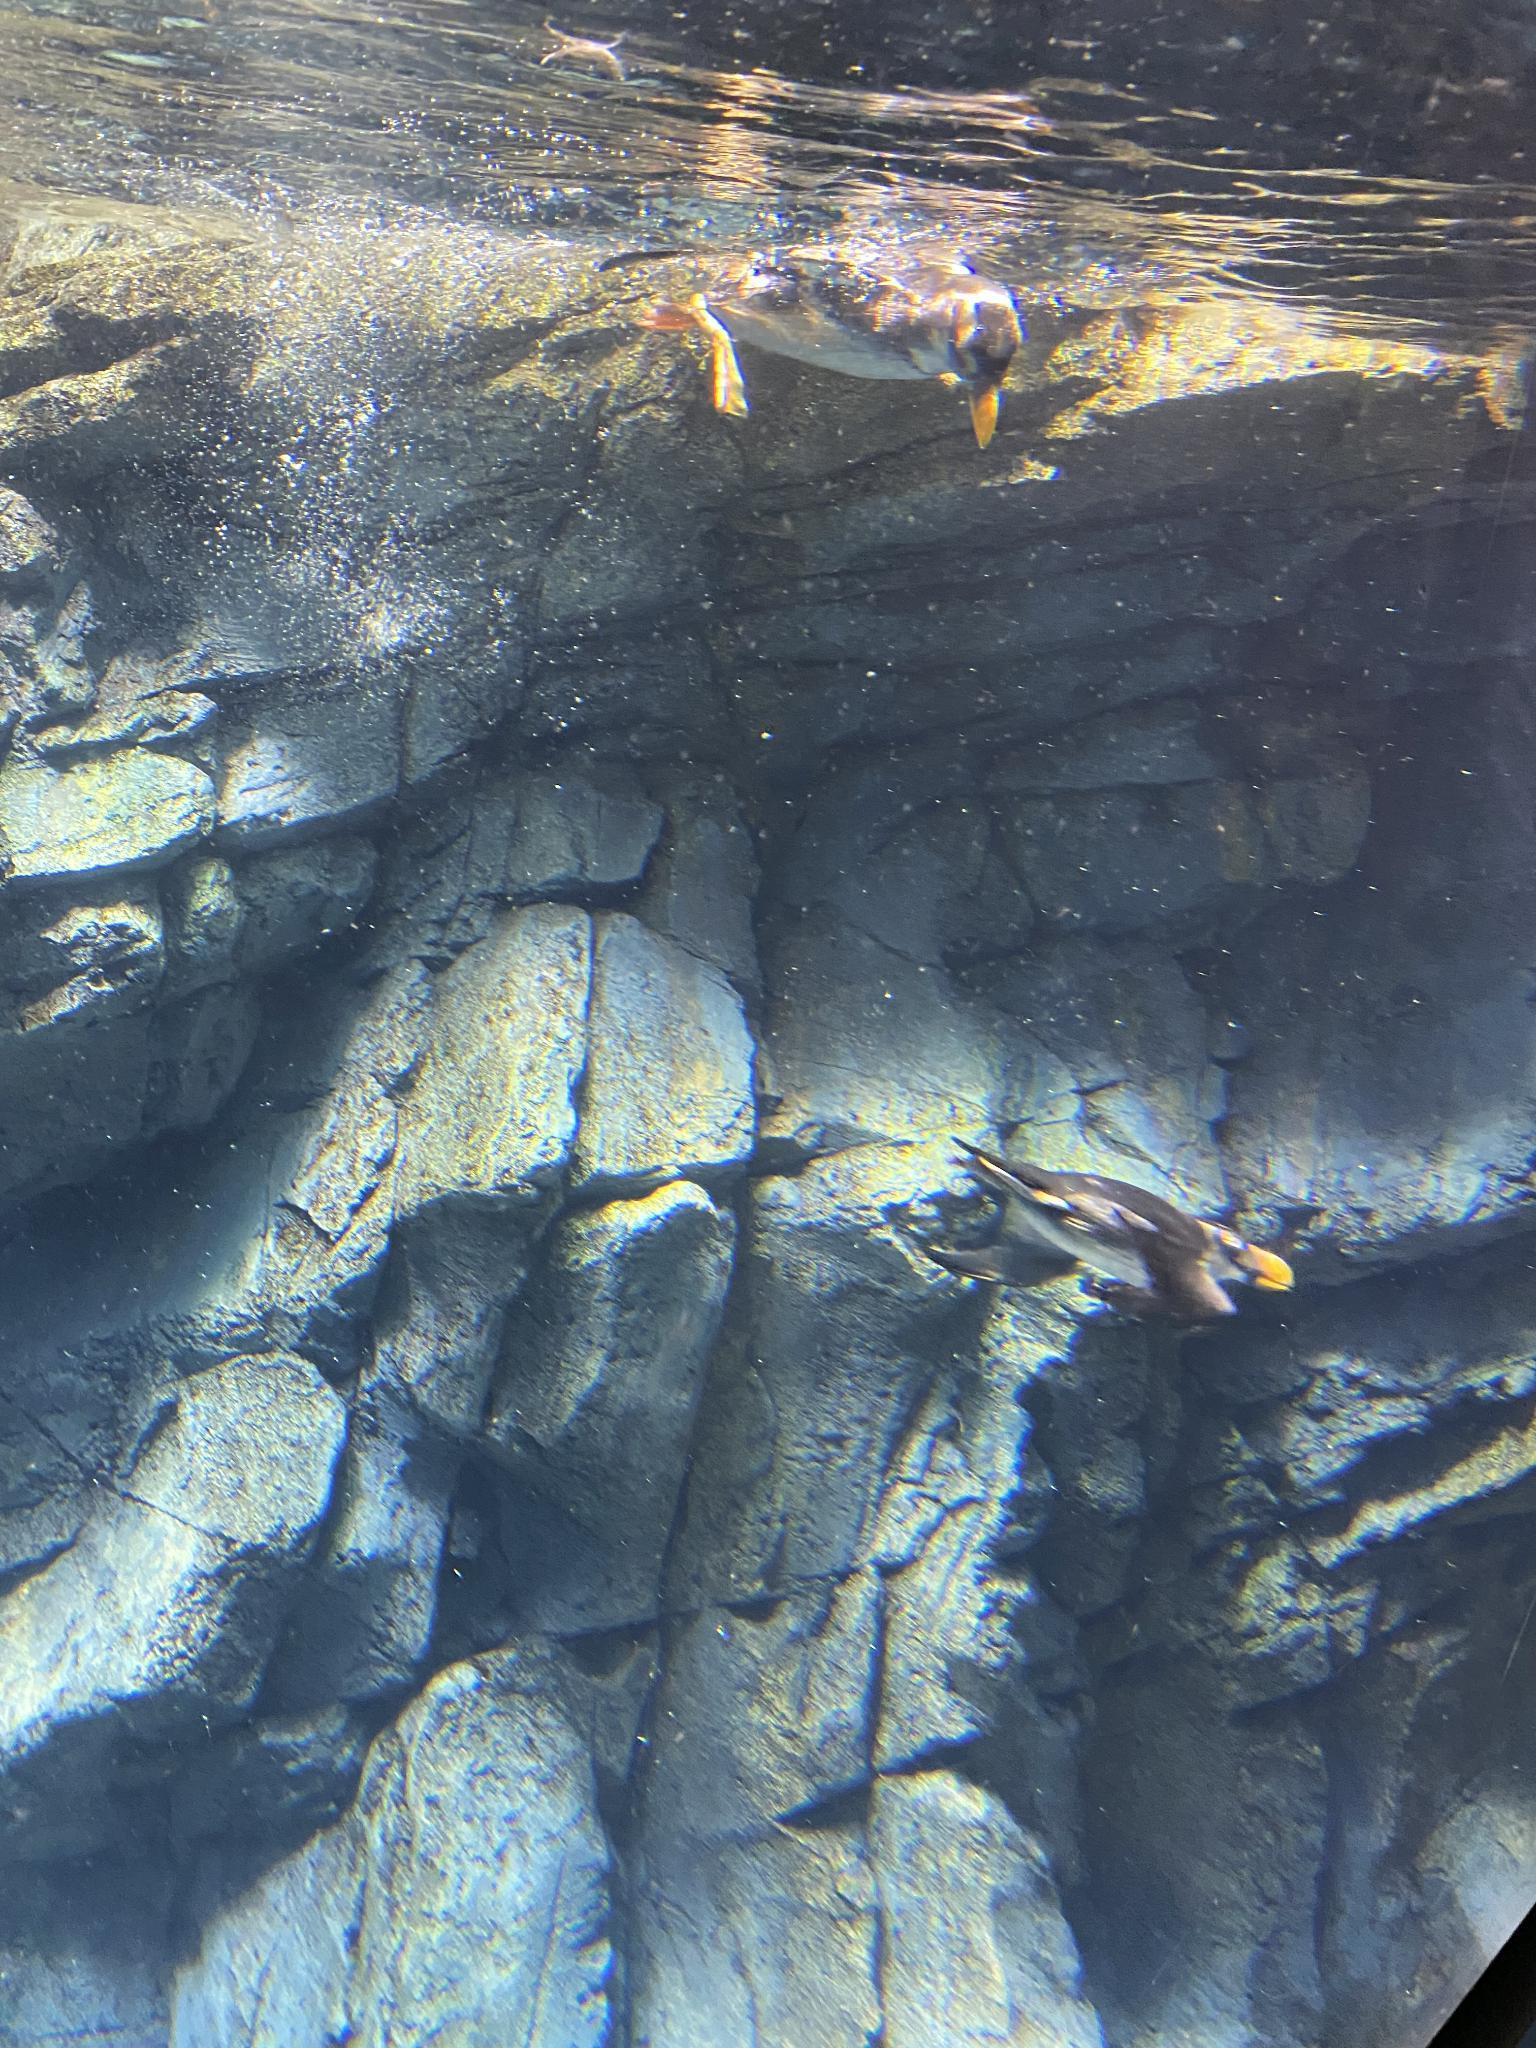puffin: (639, 237, 1023, 452), (915, 1132, 1294, 1330)
